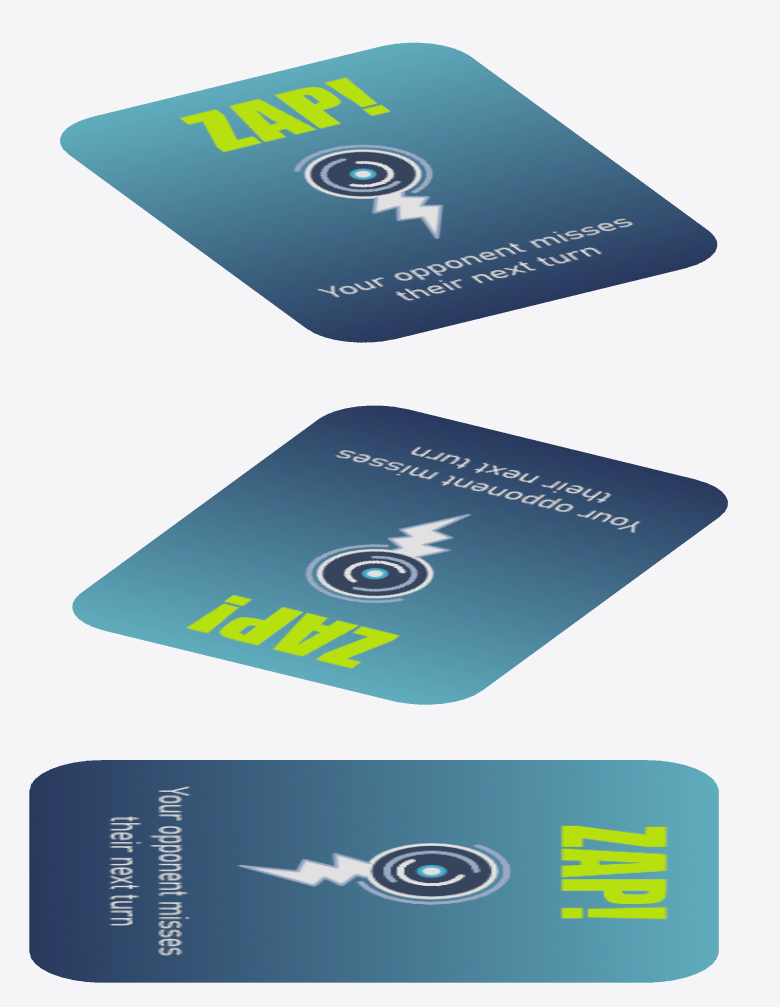
The model's file is Cards_Zap.fbx.
The picture shows the model from 3 angles, top to bottom: view 1: azimuth 30°, elevation 25°; view 2: azimuth 150°, elevation 25°; view 3: azimuth 270°, elevation 25°; orthographic projection. The views are drawn at different scales.
Parts seen in each view (by area): view 1: Zap; view 2: Zap; view 3: Zap.
Part boxes in pixels (bbox=[...]): Zap: bbox=[60, 42, 717, 342]; Zap: bbox=[72, 405, 727, 704]; Zap: bbox=[29, 760, 718, 982].
Bounding box in the file's own units: 0.4904 × 1.06e-07 × 0.6534.
